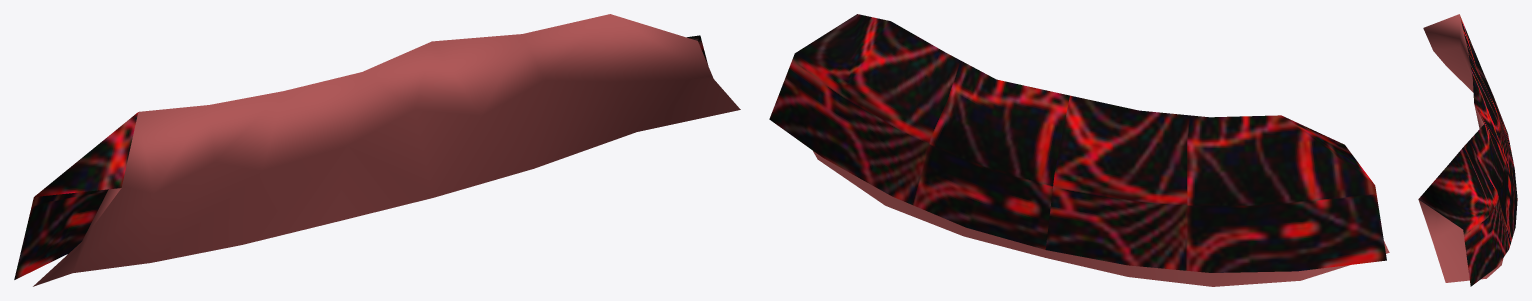
The model's file is Kerah.fbx.
The picture shows the model from 3 angles, left to right: view 1: azimuth 30°, elevation 25°; view 2: azimuth 150°, elevation 25°; view 3: azimuth 270°, elevation 25°; orthographic projection. The views are drawn at different scales.
Parts seen in each view (by area): view 1: Kerah.001; view 2: Kerah.001; view 3: Kerah.001.
Part boxes in pixels (x1,y1,x2,y2): Kerah.001: [14, 14, 740, 286]; Kerah.001: [769, 14, 1389, 286]; Kerah.001: [1418, 14, 1517, 286].
Size of the model in its own units: 145 by 37.87 by 27.34.
2 materials, 1 textured.
